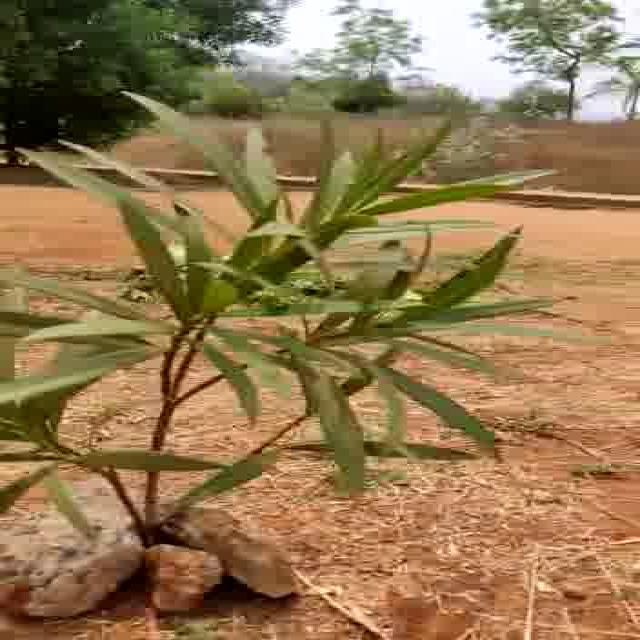Oleander: (0, 118, 554, 532)
